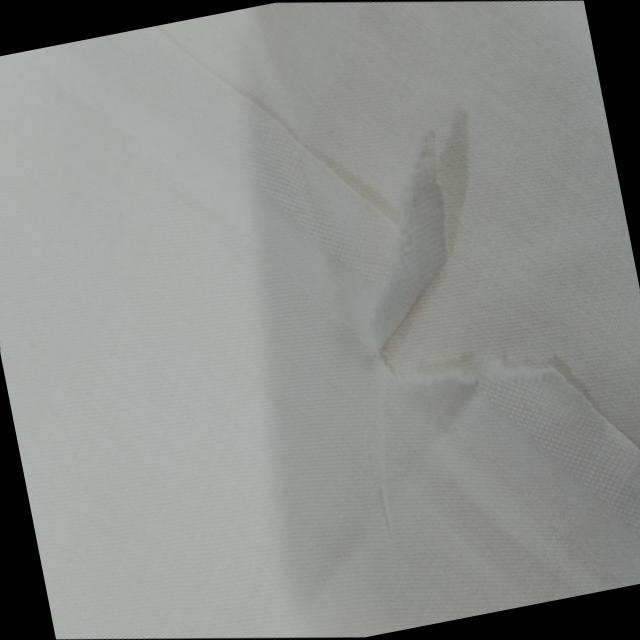cut: (318, 100, 538, 433)
